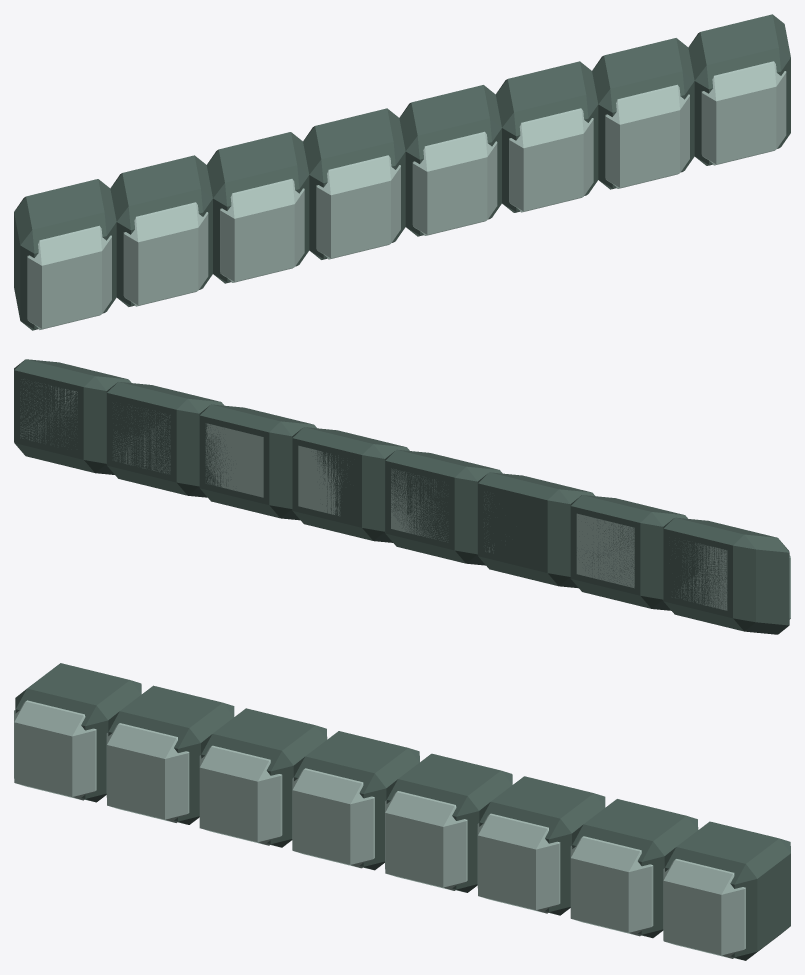
File: Terrain_Block8x1.gltf
3 views of the same model, one above another, from view 1: azimuth 30°, elevation 25°; view 2: azimuth 150°, elevation 25°; view 3: azimuth 330°, elevation 25° (orthographic). The views are drawn at different scales.
Parts seen in each view (by area): view 1: Terrain_Block8x1_baked; view 2: Terrain_Block8x1_baked; view 3: Terrain_Block8x1_baked.
Boxes of the visible parts, bbox=[...] form: Terrain_Block8x1_baked: bbox=[14, 14, 790, 330]; Terrain_Block8x1_baked: bbox=[14, 359, 790, 634]; Terrain_Block8x1_baked: bbox=[14, 663, 790, 960].
Size of the model in its own units: 8.15 by 1.15 by 0.7.
